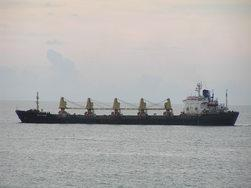Cargoship: (14, 78, 241, 125)
